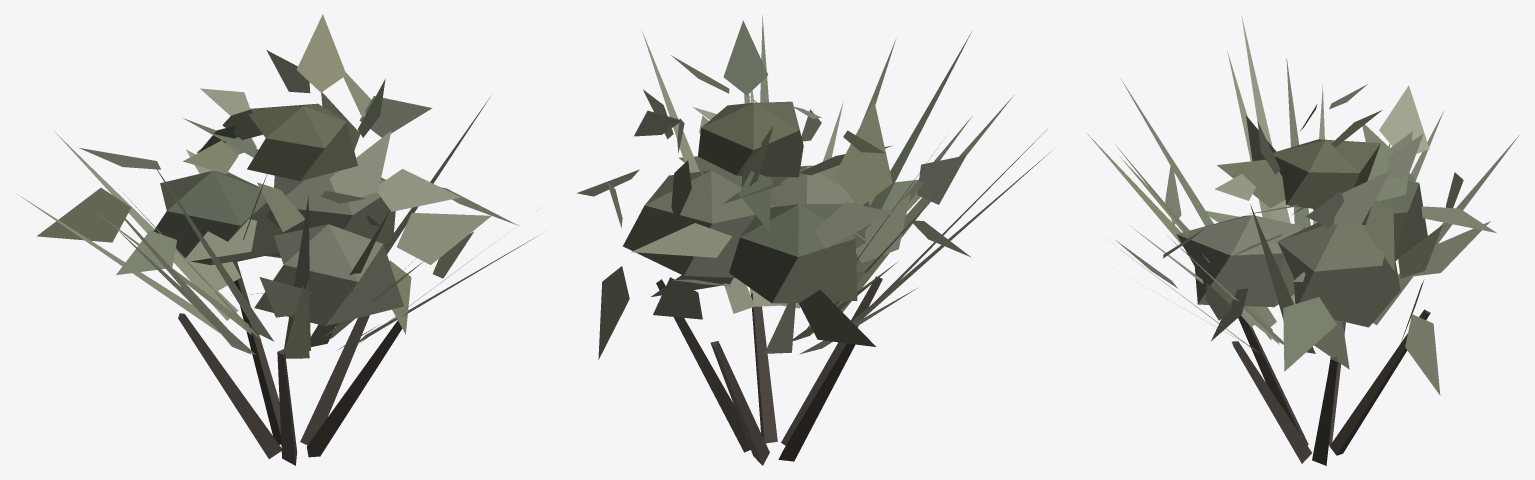
The model's file is sand-sage-high.glb.
The picture shows the model from 3 angles, left to right: view 1: azimuth 30°, elevation 25°; view 2: azimuth 150°, elevation 25°; view 3: azimuth 270°, elevation 25°; orthographic projection. The views are drawn at different scales.
Visible parts, largest first — view 1: sand-sage-high / foliage, sand-sage-high / foliage-core, sand-sage-high / wood; view 2: sand-sage-high / foliage, sand-sage-high / foliage-core, sand-sage-high / wood; view 3: sand-sage-high / foliage, sand-sage-high / foliage-core, sand-sage-high / wood.
Part boxes in pixels (x1,y1,x2,y2): sand-sage-high / foliage: [16, 14, 538, 358]; sand-sage-high / foliage-core: [153, 103, 403, 325]; sand-sage-high / wood: [178, 262, 402, 465]; sand-sage-high / foliage: [577, 15, 1052, 359]; sand-sage-high / foliage-core: [623, 101, 869, 303]; sand-sage-high / wood: [656, 276, 882, 465]; sand-sage-high / foliage: [1087, 16, 1519, 395]; sand-sage-high / foliage-core: [1176, 139, 1427, 327]; sand-sage-high / wood: [1232, 309, 1430, 465].
Size of the model in its own units: 1.32 by 1.14 by 1.19.
